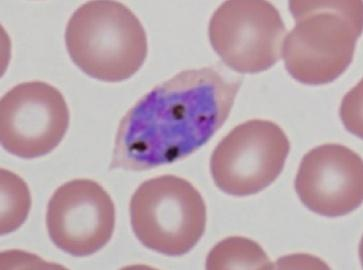Infected: (124, 97, 257, 202)
Uninfected: (217, 186, 298, 270), (157, 13, 233, 95), (74, 74, 152, 149), (77, 196, 154, 270), (293, 110, 363, 189), (247, 13, 317, 90), (8, 184, 80, 258), (0, 52, 69, 126)
